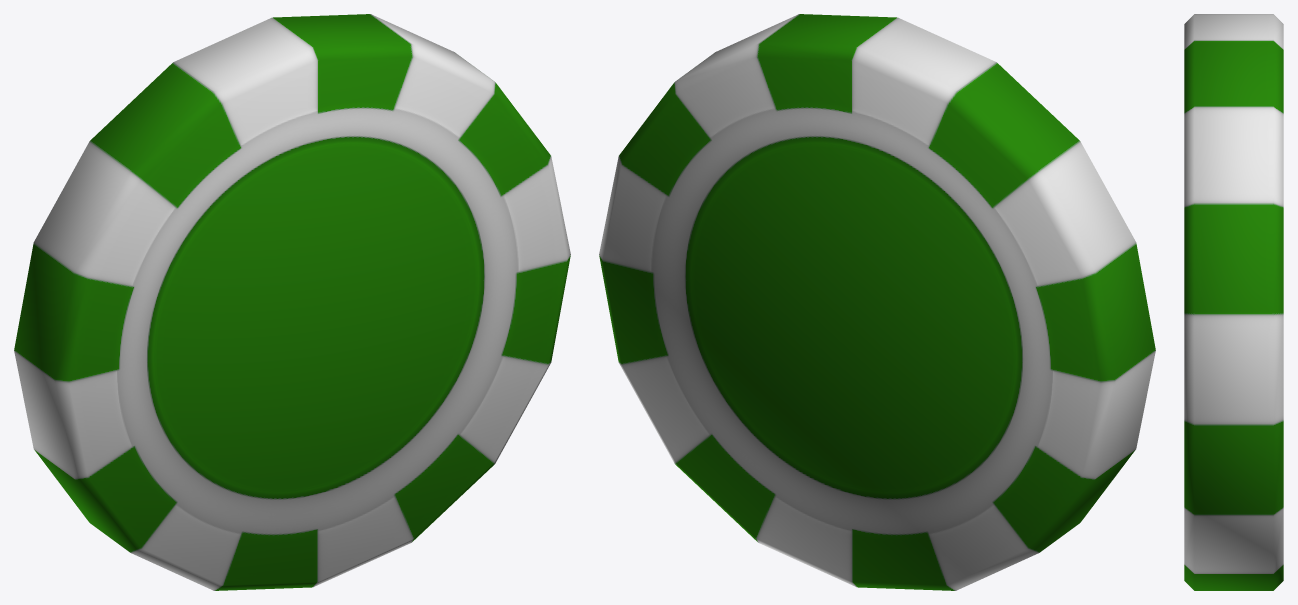
File: CasinoChip_Green.FBX
The picture shows the model from 3 angles, left to right: view 1: azimuth 30°, elevation 25°; view 2: azimuth 150°, elevation 25°; view 3: azimuth 270°, elevation 25°; orthographic projection. The views are drawn at different scales.
Visible parts, largest first — view 1: CasinoChip_Green; view 2: CasinoChip_Green; view 3: CasinoChip_Green.
Part boxes in pixels (x1,y1,x2,y2): CasinoChip_Green: (14,14,570,590); CasinoChip_Green: (599,14,1155,590); CasinoChip_Green: (1184,14,1283,590).
Size of the model in its own units: 70 by 70 by 12.
Materials: 1 (1 with a texture image).
